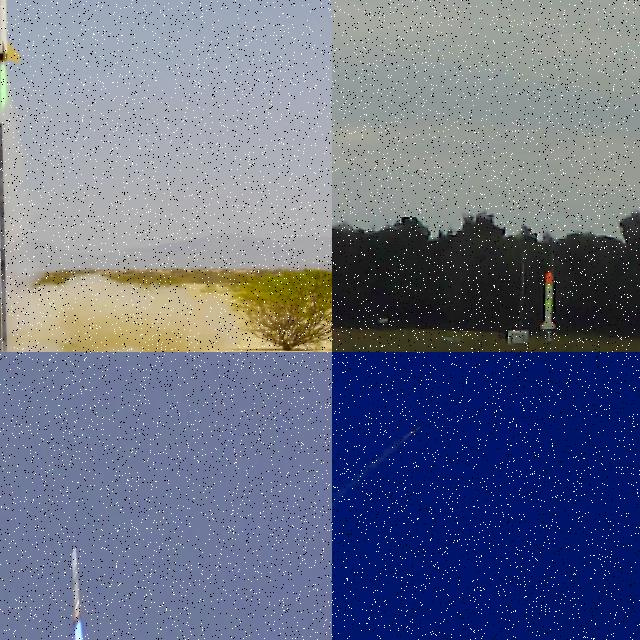Rocket: (0, 0, 20, 65), (540, 271, 557, 330), (71, 547, 83, 625), (409, 425, 421, 434)
